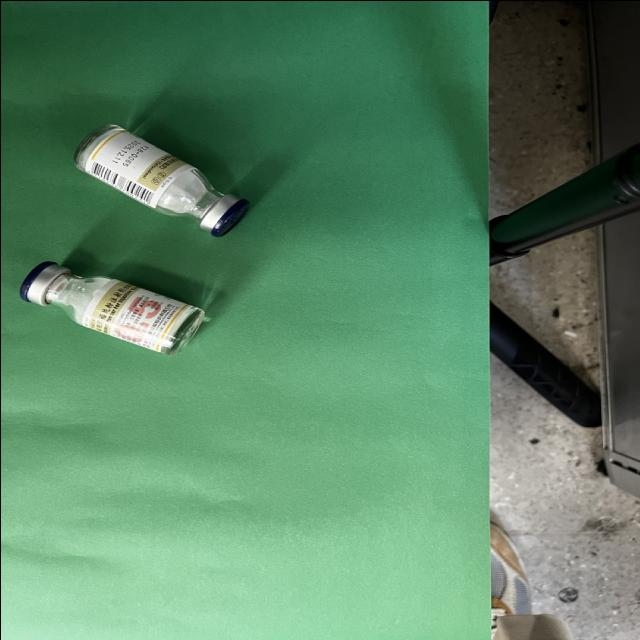Vials: (74, 124, 249, 236), (19, 261, 204, 354)
